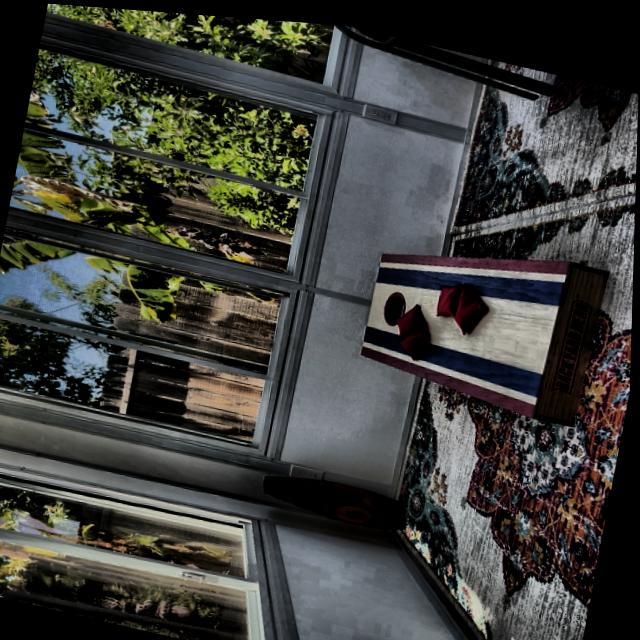board: (360, 233, 561, 397)
hole: (381, 282, 408, 323)
red-bean-bag: (449, 277, 488, 331), (393, 293, 428, 338), (435, 272, 465, 313), (396, 319, 427, 356)
